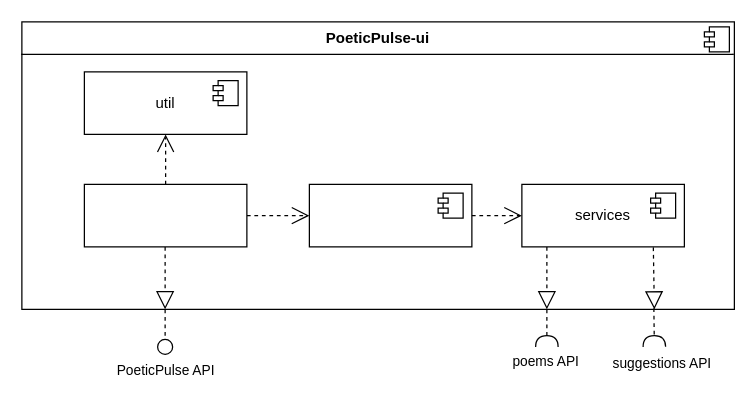
This 756x400 diagram has some shape labels left out. Here are the shapes that lost their labels. From the top down, the box of each, then its label:
(83, 183, 247, 247): index
(308, 183, 472, 247): components
